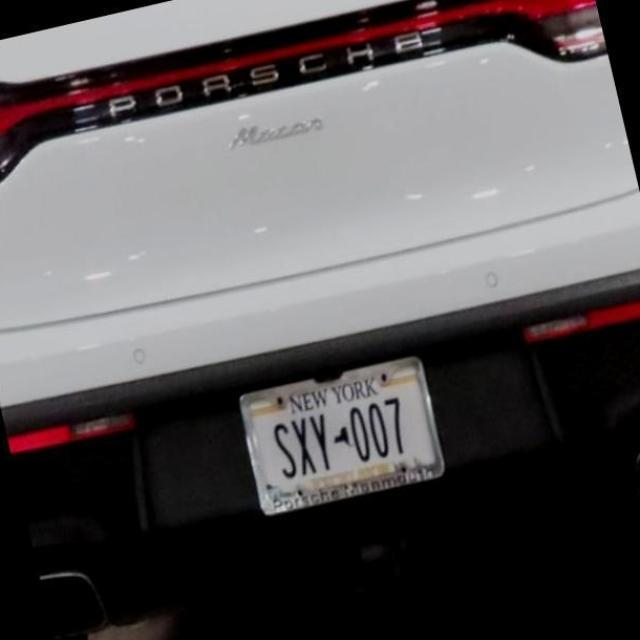license-plate: (198, 362, 470, 528), (239, 366, 283, 394)
